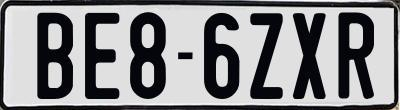6: (201, 11, 239, 102)
8: (128, 9, 167, 100)
B: (35, 12, 71, 102)
E: (82, 10, 118, 100)
R: (337, 9, 378, 98)
X: (293, 10, 330, 96)
Z: (249, 13, 283, 101)
